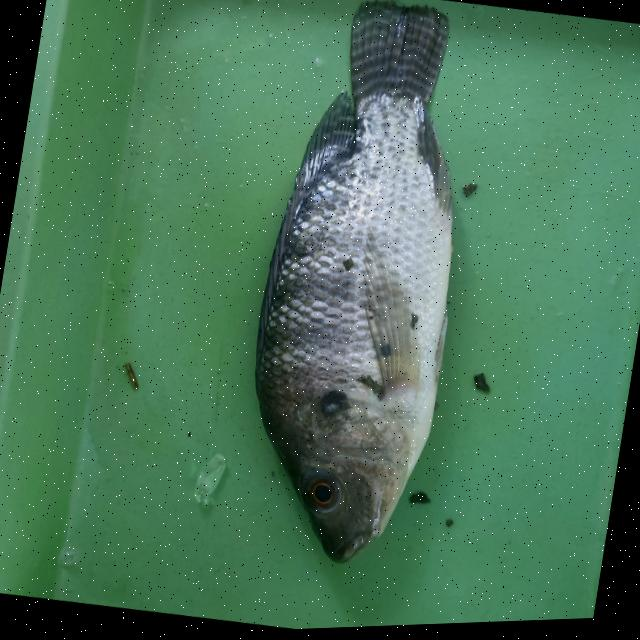Fresh: (232, 19, 489, 453), (278, 446, 382, 551)
